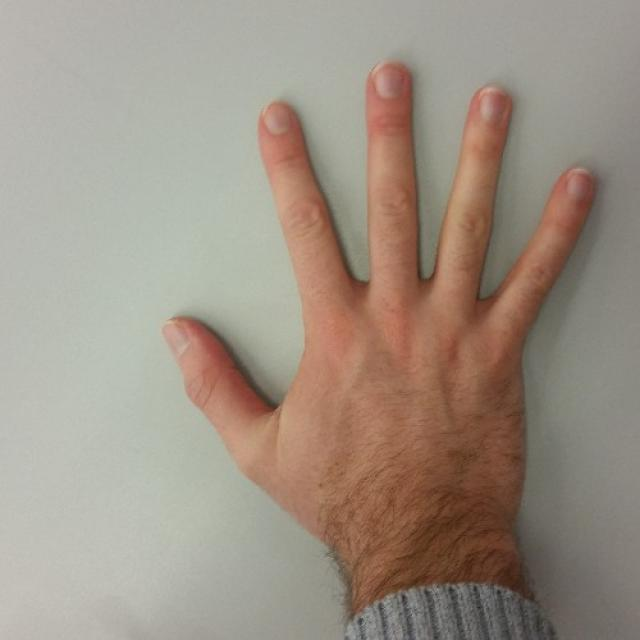paper: (164, 57, 598, 505)
